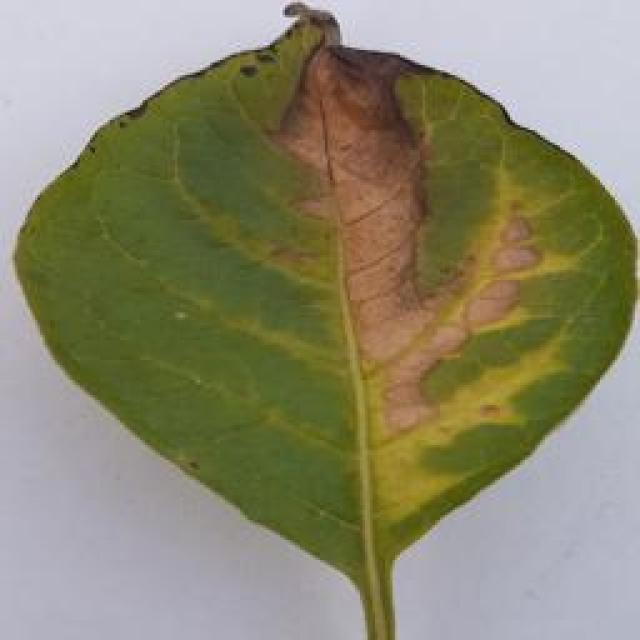Potato_Late_Blight: (14, 3, 626, 629)
